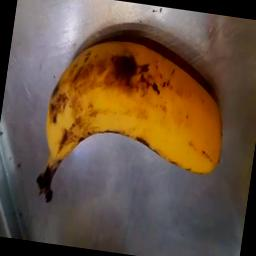Banana Overripe: (31, 21, 256, 200)
